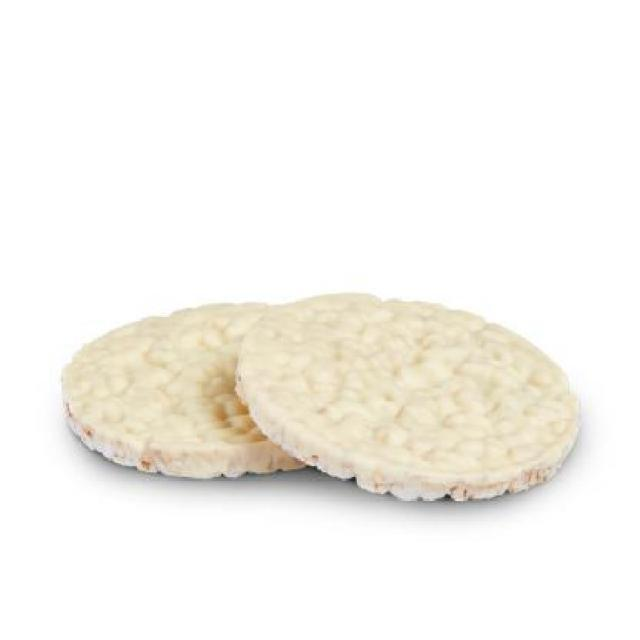Gallette di riso packaged: (236, 292, 593, 523), (48, 286, 370, 492)
